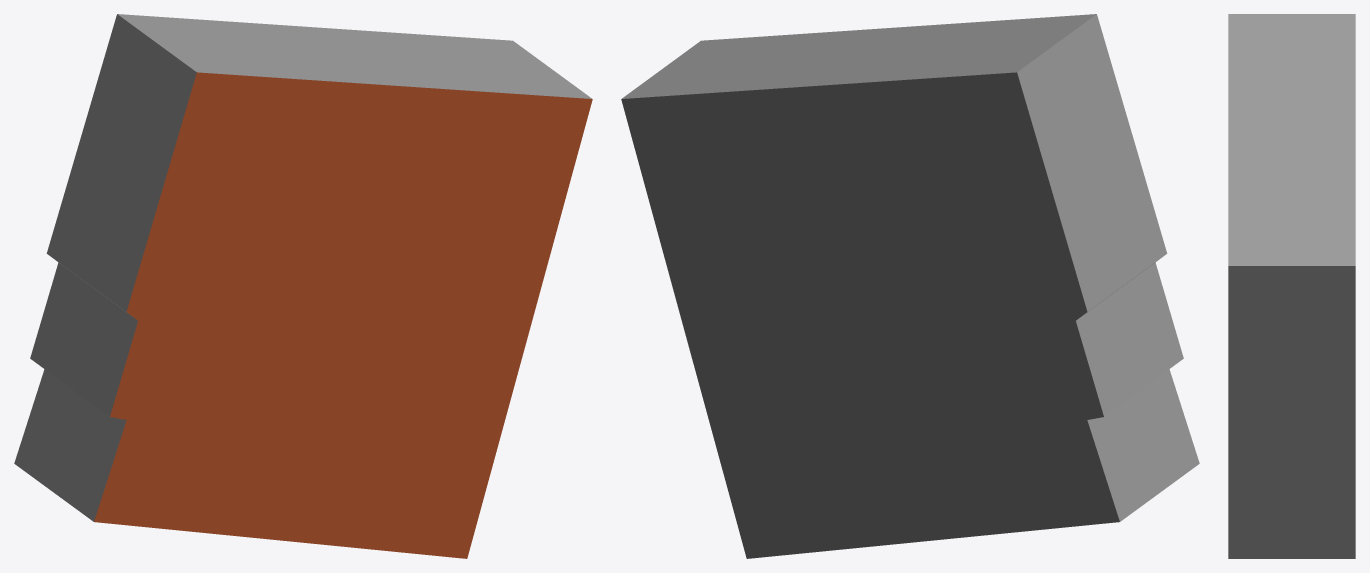
File: construction_3366_assumed_A_Casa_h6m.obj
3 views of the same model, side by side, from view 1: azimuth 30°, elevation 25°; view 2: azimuth 150°, elevation 25°; view 3: azimuth 270°, elevation 25° (orthographic). The views are drawn at different scales.
Visible parts, largest first — view 1: construction_3366_assumed_A_Casa; view 2: construction_3366_assumed_A_Casa; view 3: construction_3366_assumed_A_Casa.
Part boxes in pixels (left/top/right/bottom): construction_3366_assumed_A_Casa: left=14, top=14, right=592, bottom=558; construction_3366_assumed_A_Casa: left=621, top=14, right=1199, bottom=558; construction_3366_assumed_A_Casa: left=1228, top=14, right=1355, bottom=558.
Bounding box in the file's own units: 21.66 × 22.92 × 6.
